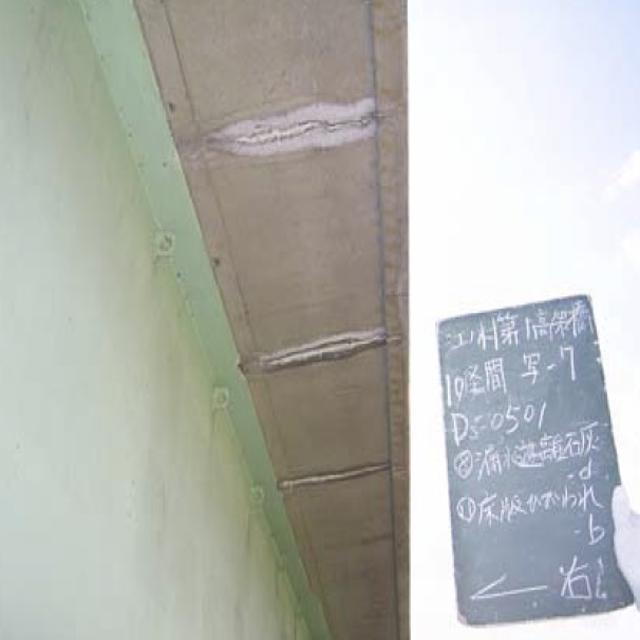freelime: (178, 93, 392, 173), (240, 307, 394, 382), (271, 447, 403, 507)
